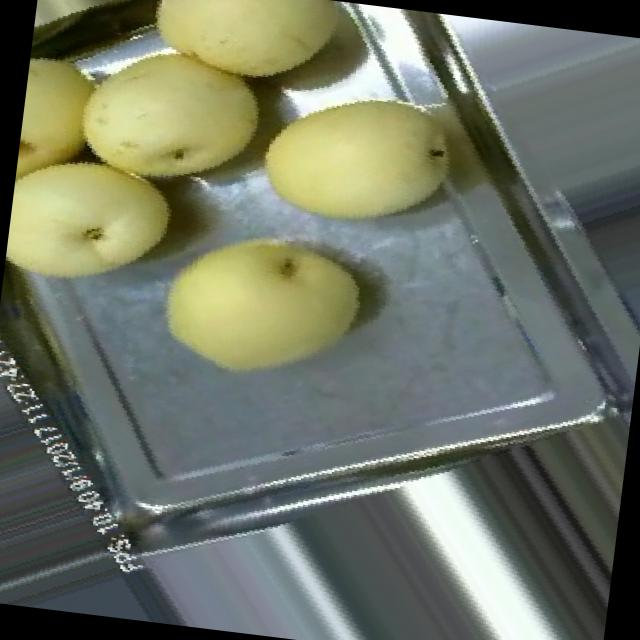Fruit: (27, 0, 308, 213), (132, 197, 386, 408), (236, 52, 496, 256), (1, 126, 201, 315)
